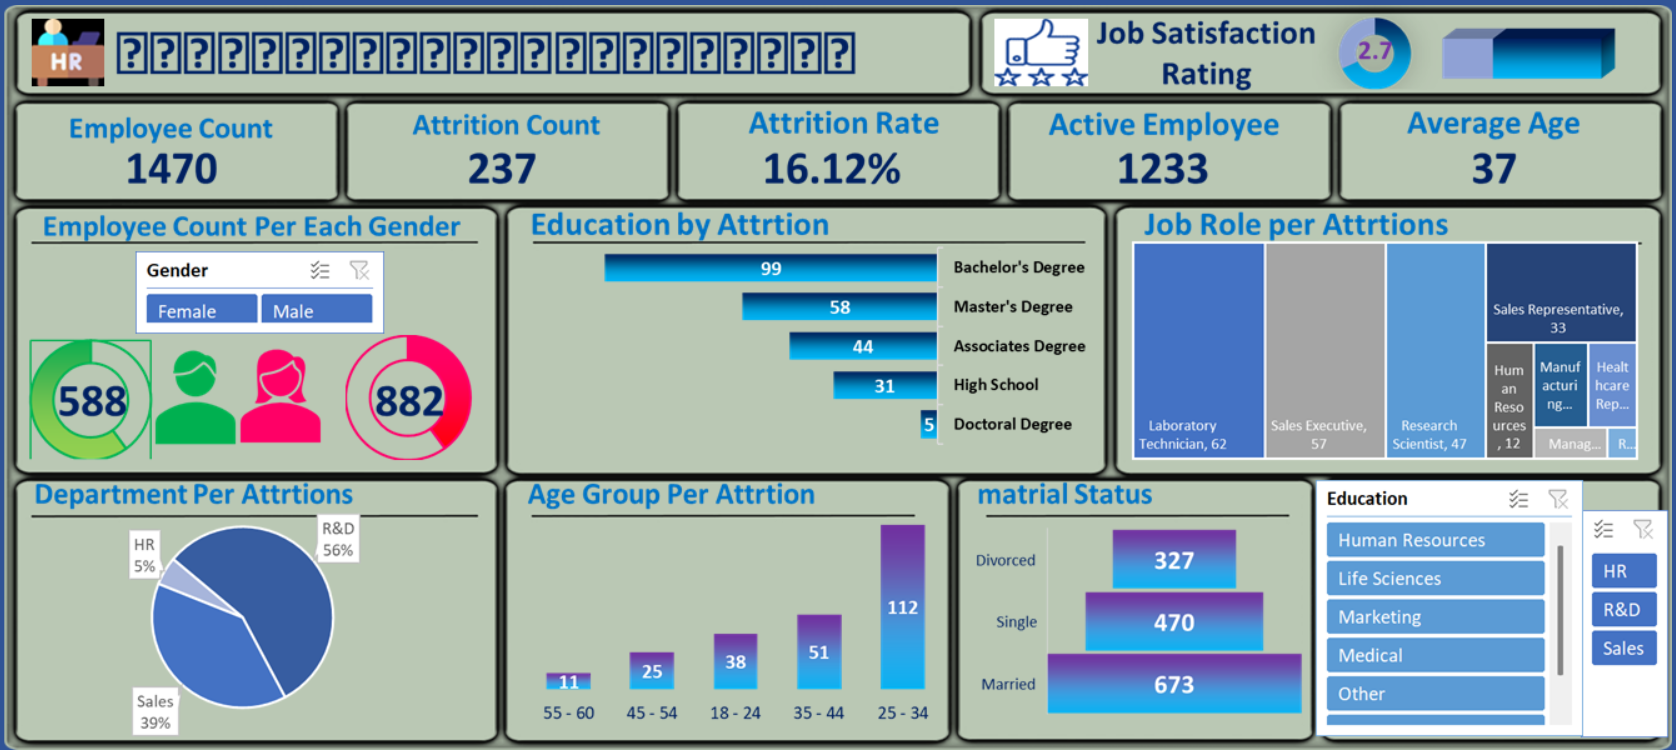

The page's visual inventory and layout, read from the dashboard file:
{"tool":"tableau","page":{"name":"Dashboard 1","canvas":[1669,861],"ordinal":0},"visuals":[{"type":"image","param":"Image/kurp2.jpg","box":[8,8,1653,845]},{"type":"text","box":[100,18,859,59]},{"type":"filter","title":"Department per Attrition","param":"[federated.0pwhxd303h3sfi1ah9gx11fwq4bj].[none:Education:nk]","box":[952,21,620,62]},{"type":"worksheet","title":"Attrtion by gender","mark":"Automatic","rows":["Gender"],"cols":["Calculation_881298155774873600","Calculation_881298155774873600"],"box":[1375,94,195,127]},{"type":"worksheet","title":"KPIs","mark":"Automatic","box":[97,95,1265,129]},{"type":"worksheet","title":"Employee per age","mark":"Automatic","rows":["Employee Count"],"cols":["Age (bin)"],"box":[540,234,522,346]},{"type":"worksheet","title":"Job Satisfaction Rating","mark":"Square","rows":["Job Role"],"cols":["Job Satisfaction"],"box":[1078,235,491,346]},{"type":"worksheet","title":"Department per Attrition","mark":"Pie","box":[98,237,431,346]},{"type":"parameter","param":"[Parameters].[Parameter 1]","box":[832,246,221,40]},{"type":"legend","title":"Department per Attrition","param":"[federated.0pwhxd303h3sfi1ah9gx11fwq4bj].[none:Department:nk]","box":[103,482,93,85]},{"type":"worksheet","title":"Eduction Per Attrtion","mark":"Automatic","rows":["Education Field"],"cols":["Calculation_881298155774873600"],"box":[97,595,412,249]},{"type":"worksheet","title":"Attrition Rate per Gender for different ages","mark":"Pie","rows":["Calculation_881298155884138501","Calculation_881298155884138501"],"cols":["CF_age band"],"box":[519,595,1053,248]},{"type":"legend","title":"Attrition Rate per Gender for different ages","param":"[federated.0pwhxd303h3sfi1ah9gx11fwq4bj].[none:Gender:nk]","box":[1205,597,295,45]}]}

Visuals, with their boxes on the page's 1669x861 design canvas (x1, y1, x2, y2). These are canvas units, not pixel positions in the 1676x750 screenshot, which may show the page scaled, cropped or inside an application window:
image: box=[8, 8, 1661, 853]
text: box=[100, 18, 959, 77]
"Department per Attrition" filter: box=[952, 21, 1572, 83]
"Attrtion by gender" worksheet: box=[1375, 94, 1570, 221]
"KPIs" worksheet: box=[97, 95, 1362, 224]
"Employee per age" worksheet: box=[540, 234, 1062, 580]
"Job Satisfaction Rating" worksheet (Square marks): box=[1078, 235, 1569, 581]
"Department per Attrition" worksheet (Pie marks): box=[98, 237, 529, 583]
parameter: box=[832, 246, 1053, 286]
"Department per Attrition" legend: box=[103, 482, 196, 567]
"Eduction Per Attrtion" worksheet: box=[97, 595, 509, 844]
"Attrition Rate per Gender for different ages" worksheet (Pie marks): box=[519, 595, 1572, 843]
"Attrition Rate per Gender for different ages" legend: box=[1205, 597, 1500, 642]
